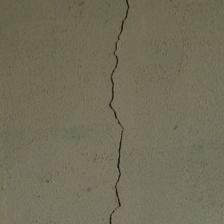Crack: (107, 4, 137, 221)
